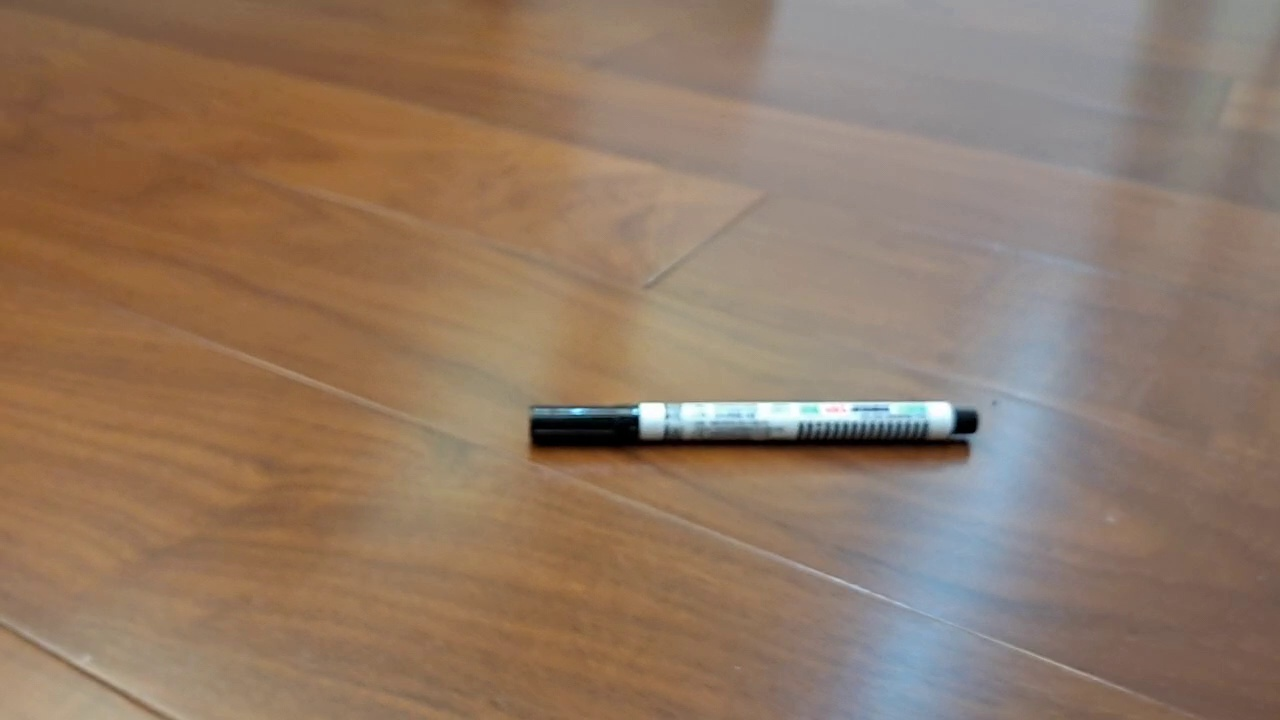pen: (529, 400, 979, 448)
